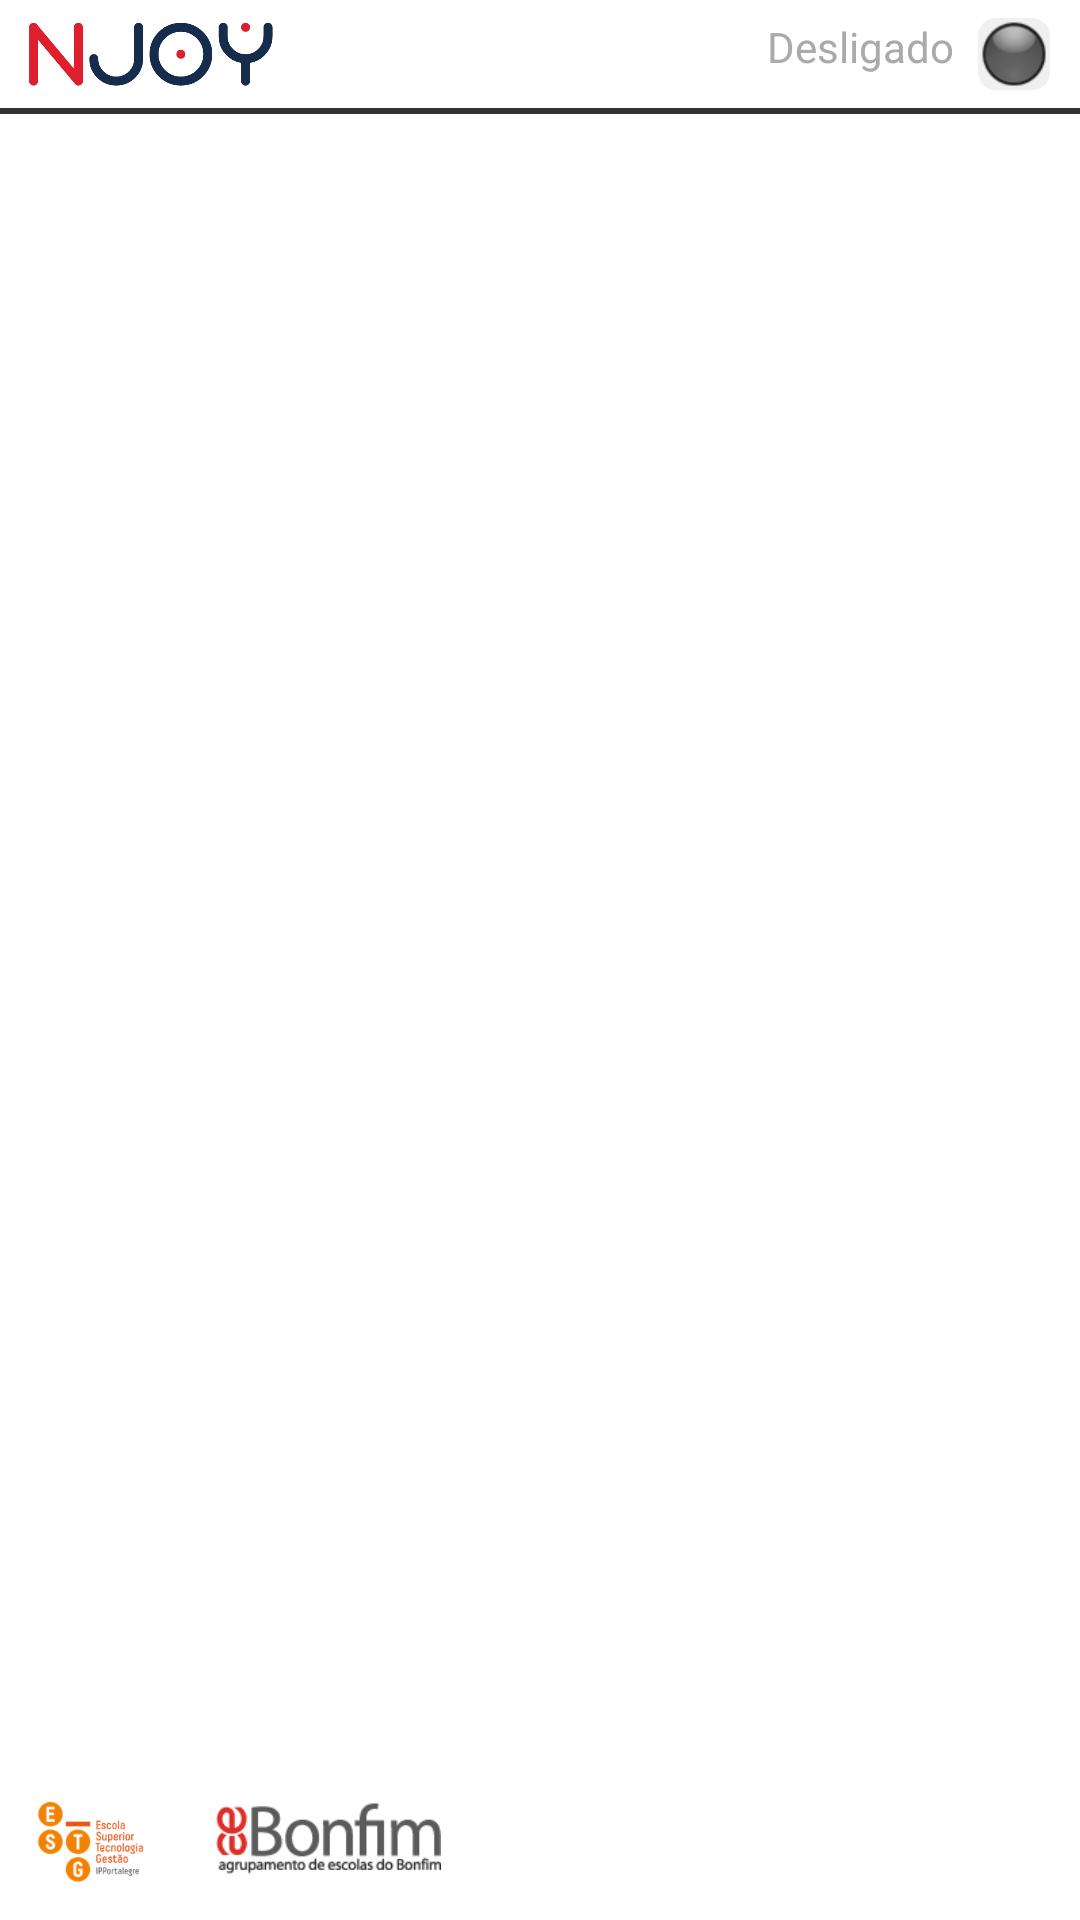

Where icons sit on this 1080*1920 app screen, as (x1, y1, x2, y2):
ledgray: (982, 22, 1046, 86)
